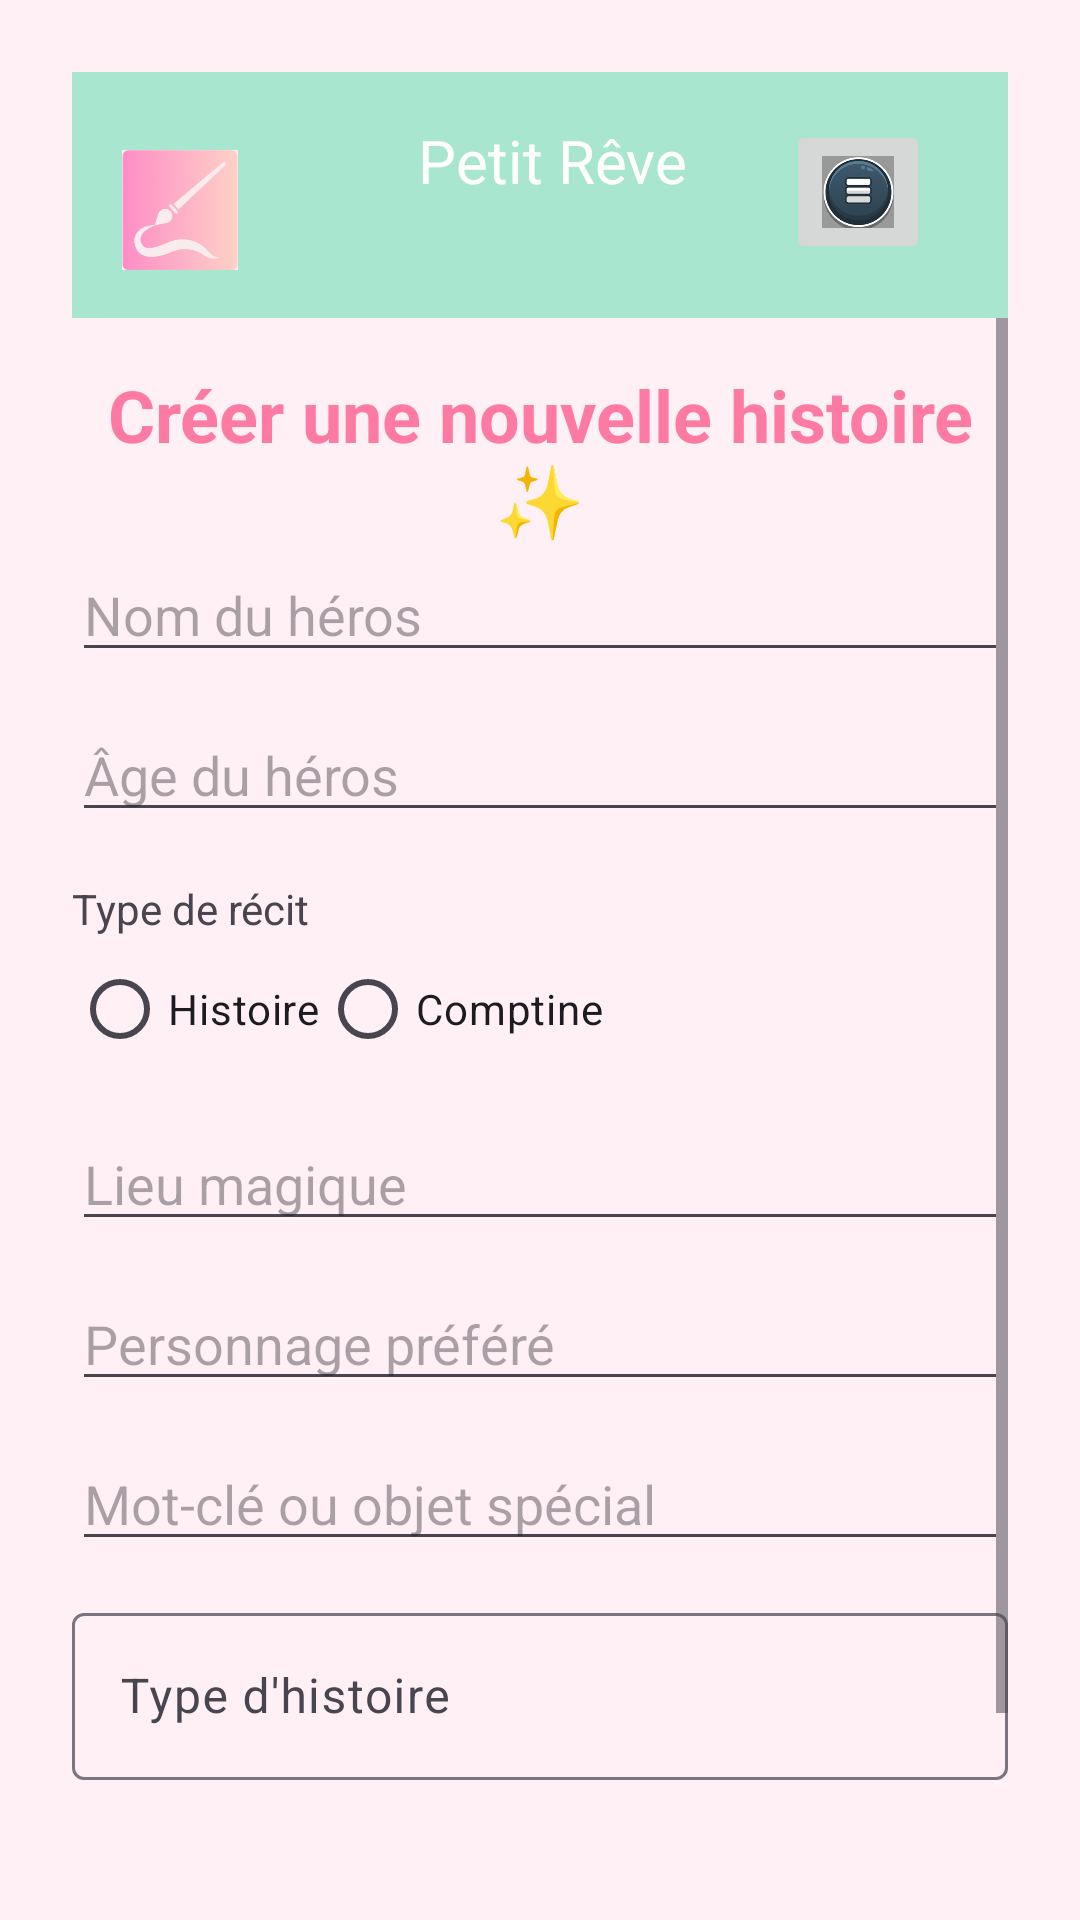

Named icons in this screenshot (1080x1920) and their centers, (x=x, y=y):
Menu Button: (x=858, y=192)
